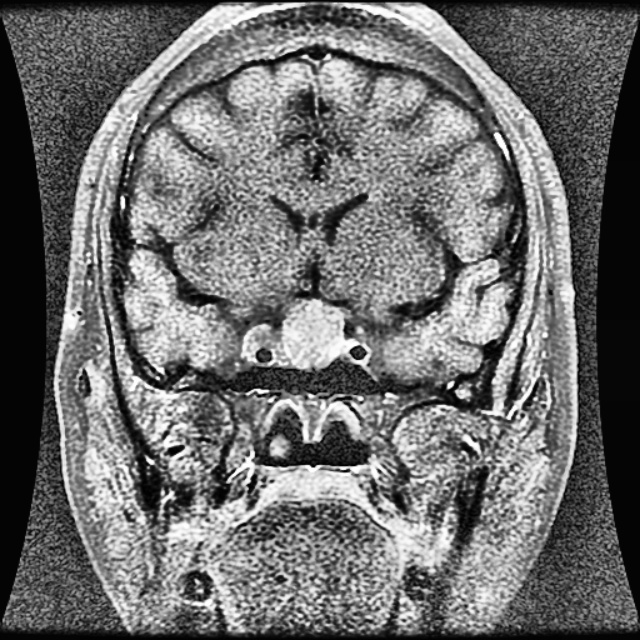Pituitary: (275, 300, 343, 368)
